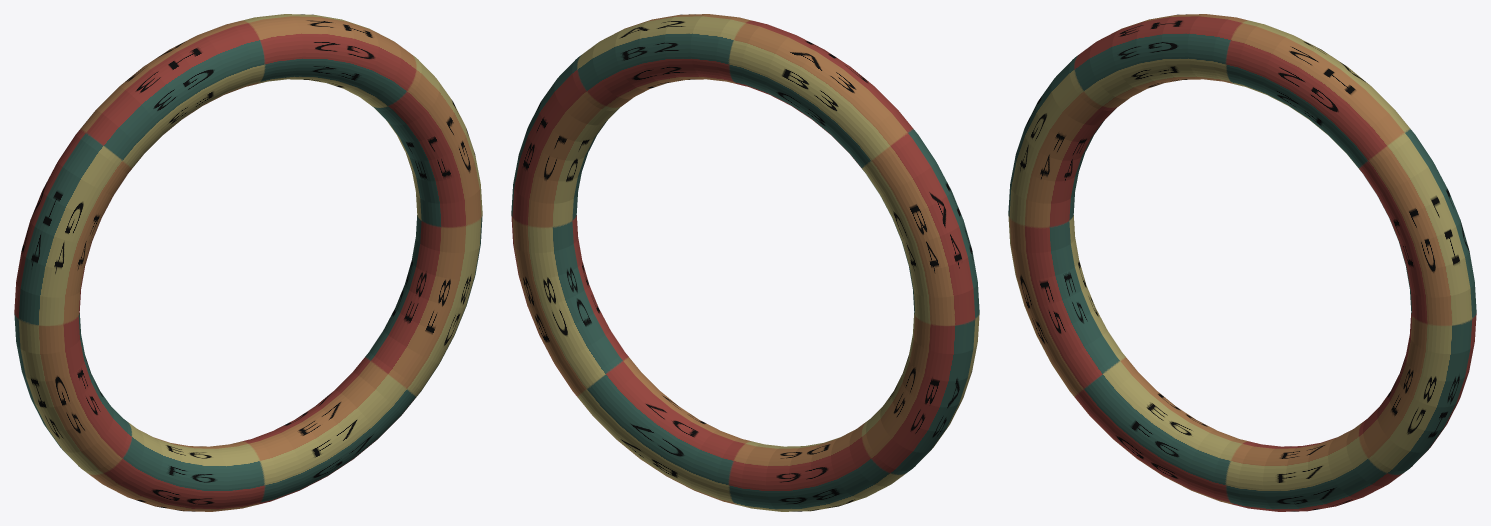
Rendered from texture_torus_R12_r2.glb.
3 views of the same model, side by side, from view 1: azimuth 30°, elevation 25°; view 2: azimuth 150°, elevation 25°; view 3: azimuth 330°, elevation 25° (orthographic).
Visible parts, largest first — view 1: world; view 2: world; view 3: world.
Boxes of the visible parts, <box> form: world: <box>14,14,482,511</box>; world: <box>511,14,979,511</box>; world: <box>1008,14,1476,511</box>.
Bounding box in the file's own units: 20.53 × 20.49 × 2.53.
1 material, 1 textured.
